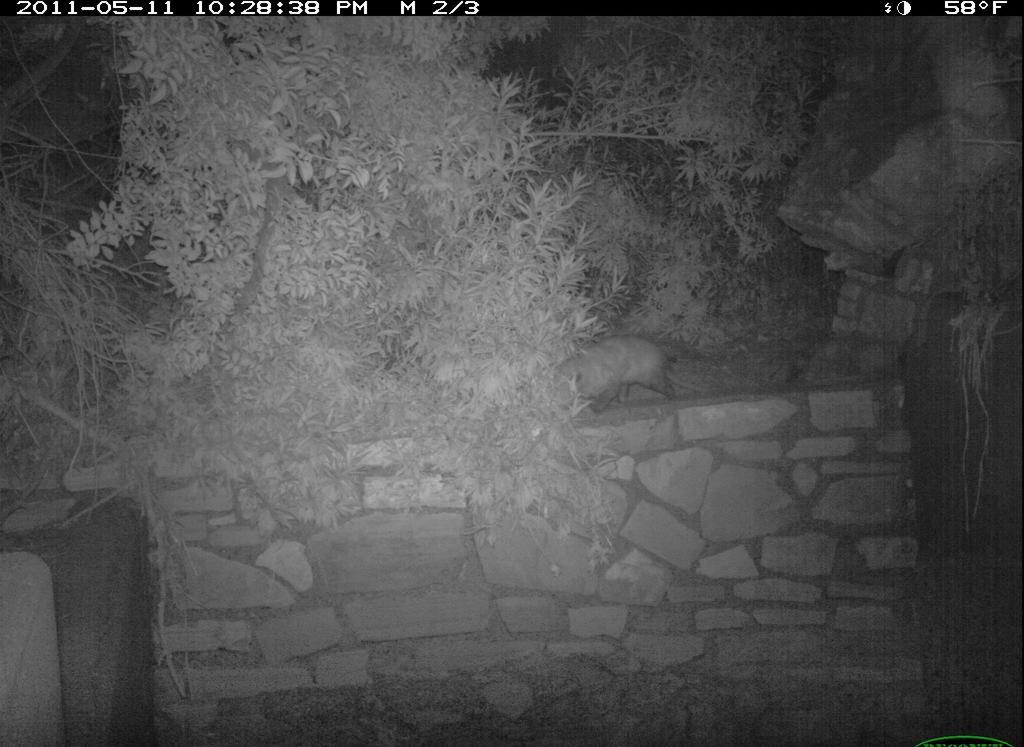opossum: (542, 331, 690, 423)
